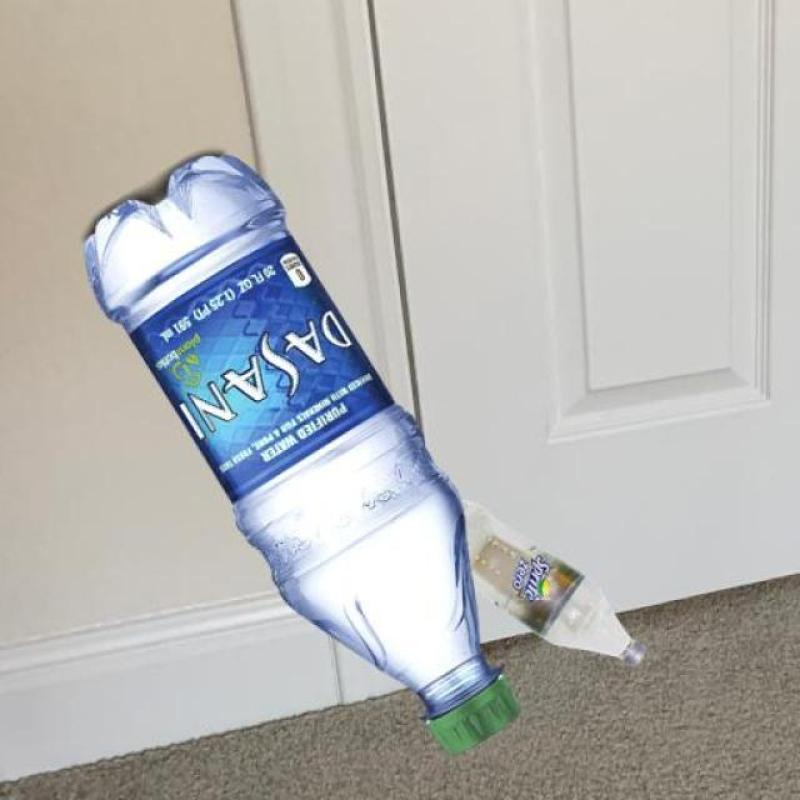botella: (83, 148, 518, 752), (453, 496, 648, 668)
